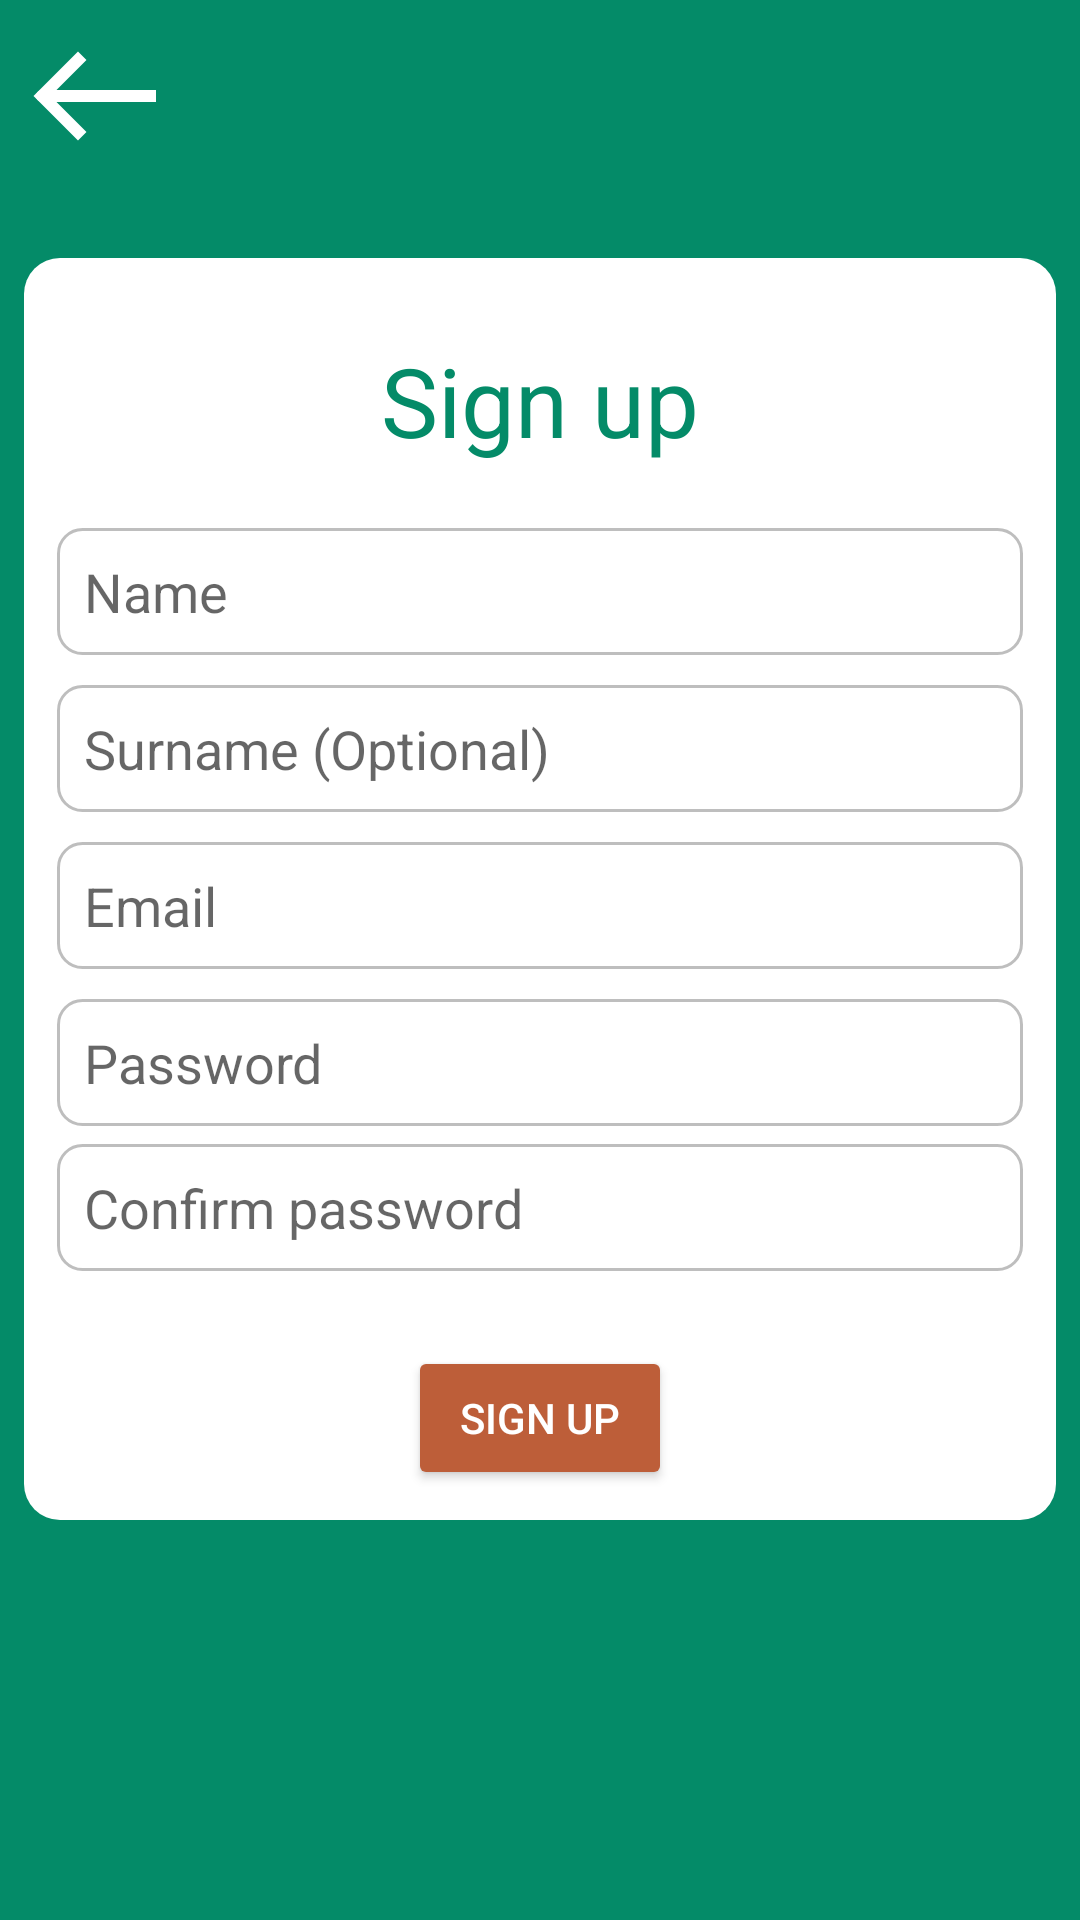

Icons on this 1080×1920 Android screen, each with the point to tap as (x=x, y=y):
Back: (x=94, y=96)
